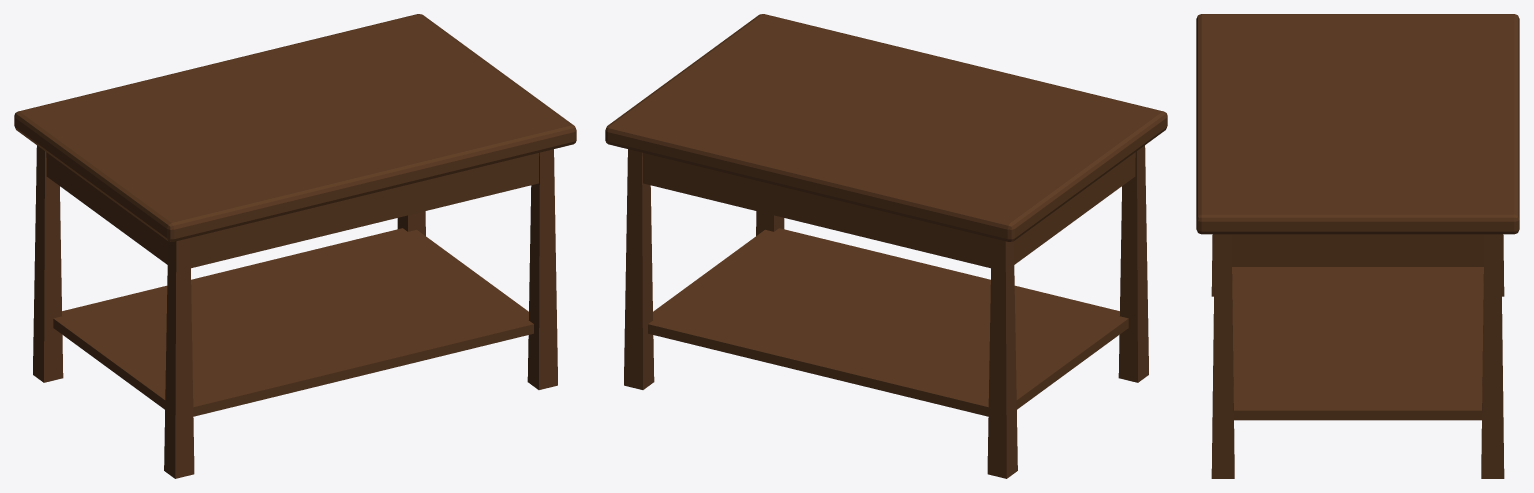
Rendered from table.glb.
The picture shows the model from 3 angles, left to right: view 1: azimuth 30°, elevation 25°; view 2: azimuth 150°, elevation 25°; view 3: azimuth 270°, elevation 25°; orthographic projection. The views are drawn at different scales.
Visible parts, largest first — view 1: Table; view 2: Table; view 3: Table.
Boxes of the visible parts, box(x1,y1,x2,y2) form: Table: box(14, 14, 576, 478); Table: box(605, 14, 1167, 478); Table: box(1196, 14, 1519, 478).
Bounding box in the file's own units: 0.9 × 0.55 × 0.6.
